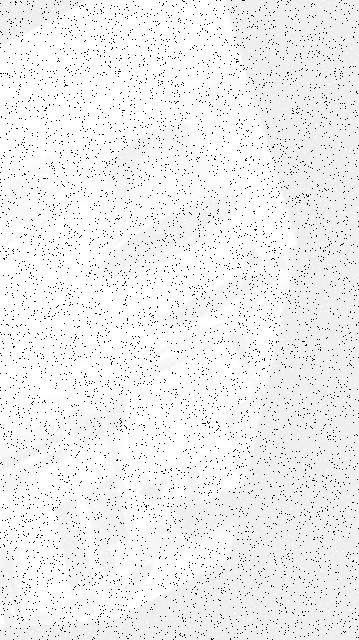pot: (93, 124, 242, 281)
